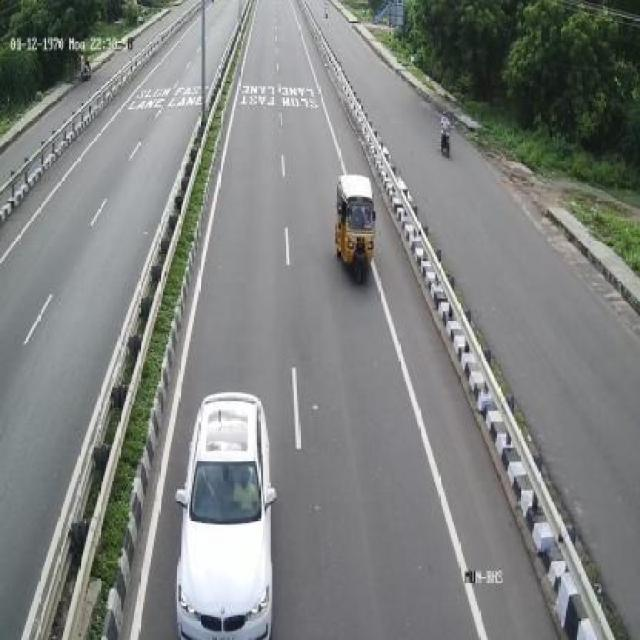car: (171, 383, 278, 640)
